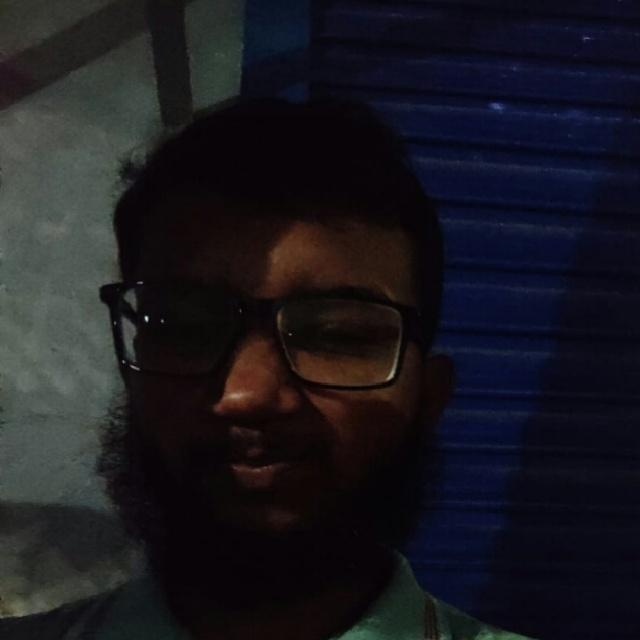Disgust: (95, 139, 461, 600)
